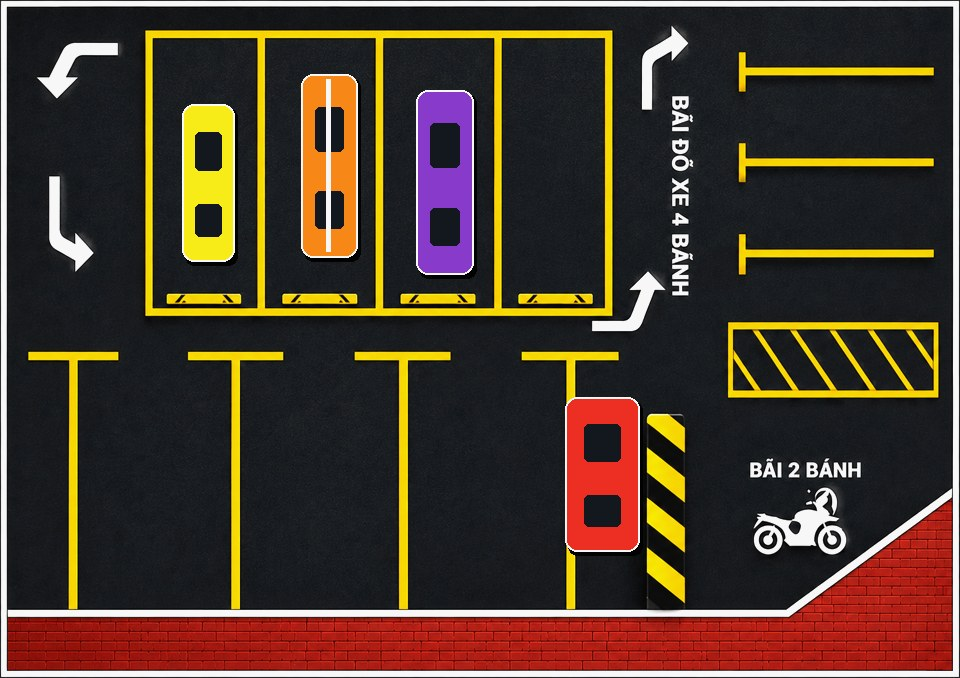empty: (35, 351, 199, 598), (360, 351, 518, 598), (201, 351, 357, 598), (505, 35, 624, 309)
occupied: (524, 351, 672, 598), (148, 35, 267, 309), (267, 35, 386, 309), (386, 35, 505, 309)
